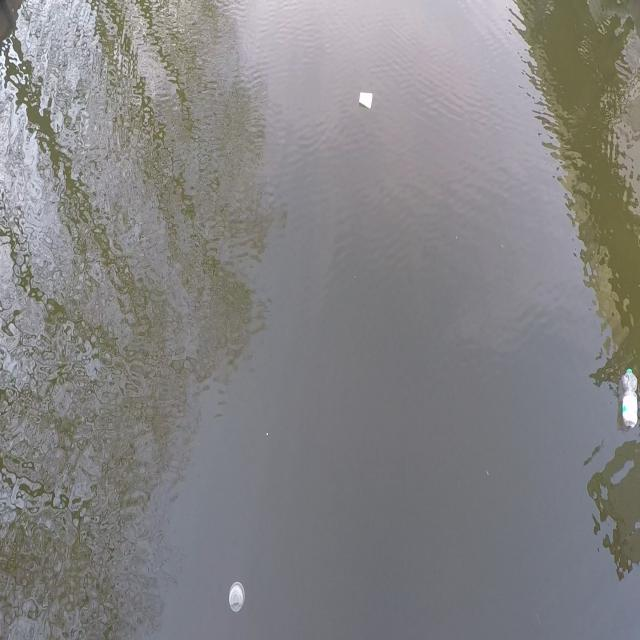Autre plastique: (357, 89, 378, 113)
Bouteille plastique: (621, 366, 638, 430)
